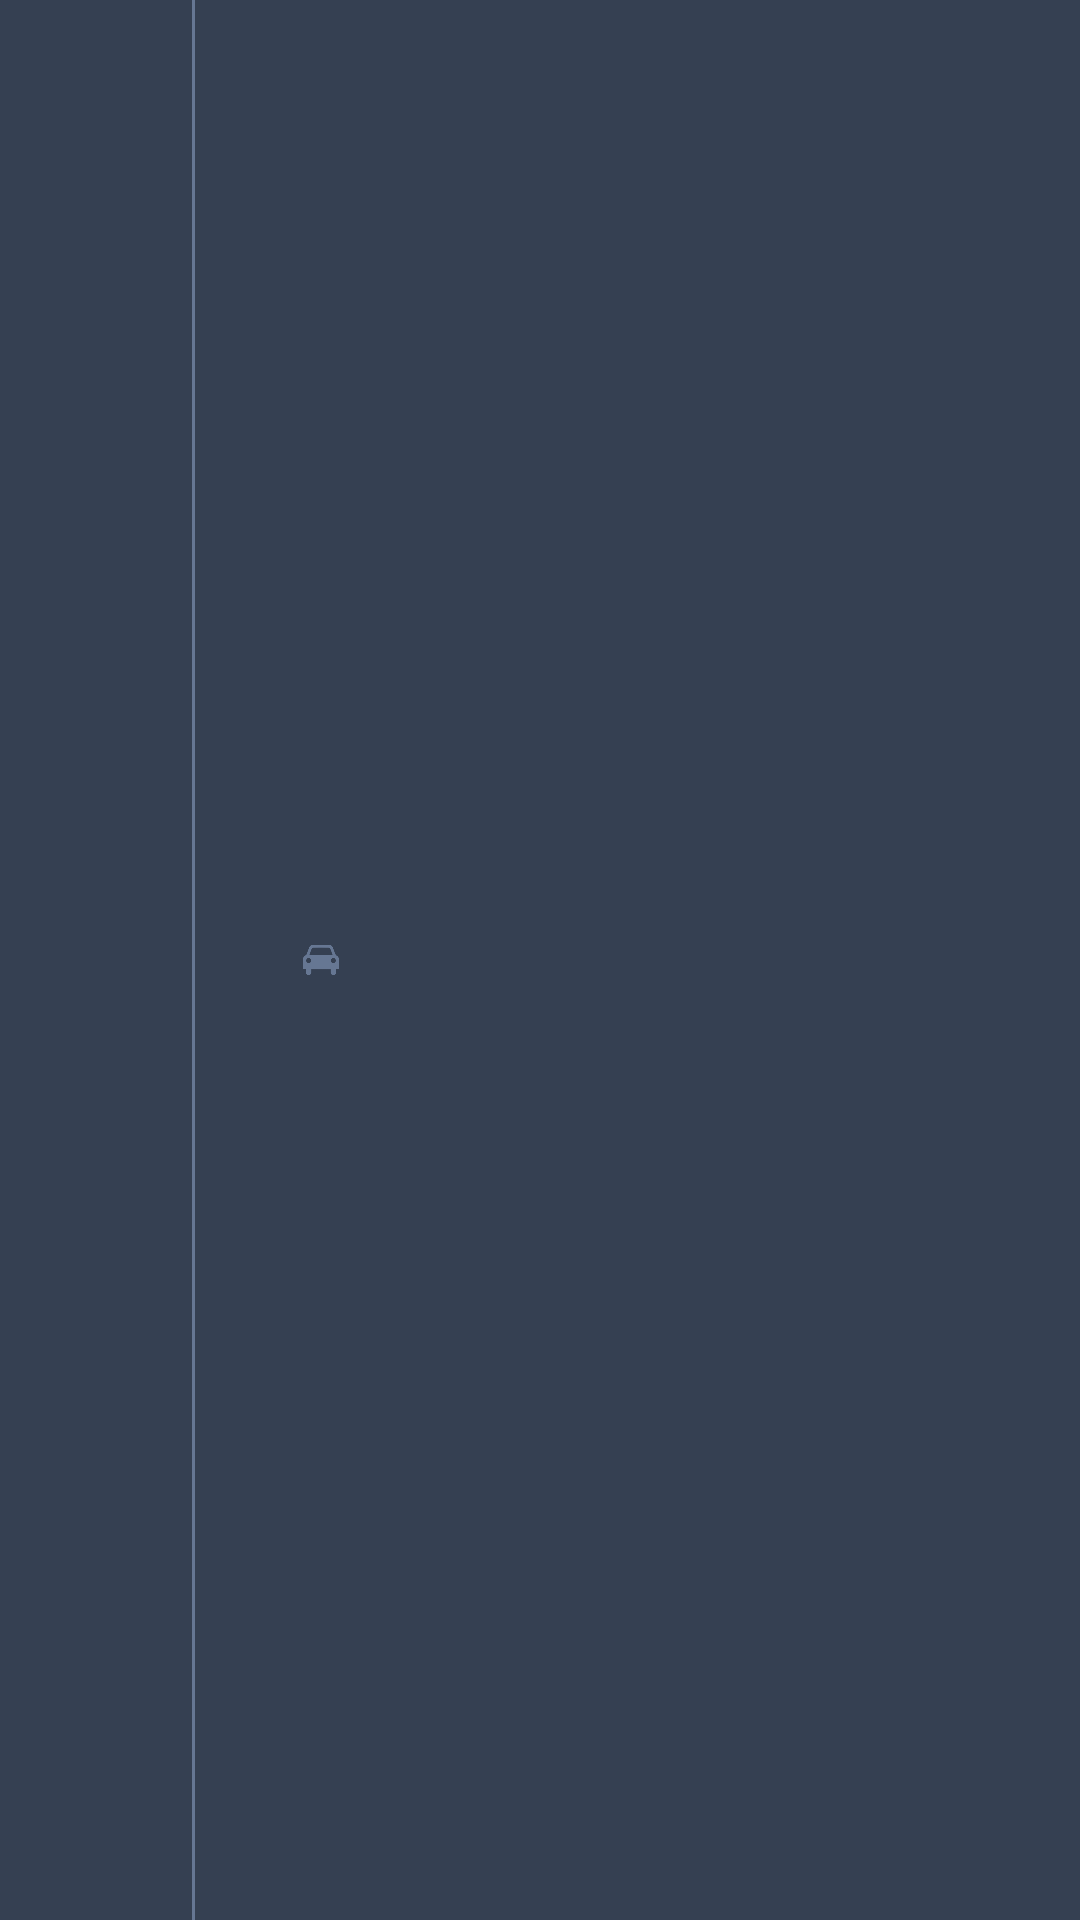

Icons on this 1080×1920 Android screen, each with the point to tap as (x=x, y=y):
car: (x=321, y=960)
